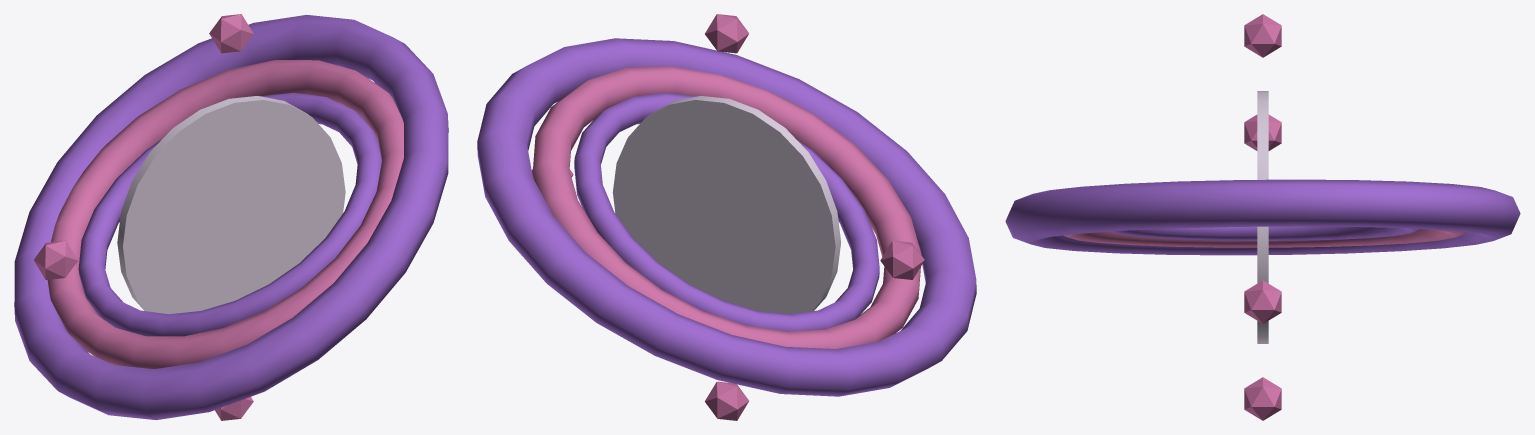
Rendered from region.glb.
3 views of the same model, side by side, from view 1: azimuth 30°, elevation 25°; view 2: azimuth 150°, elevation 25°; view 3: azimuth 270°, elevation 25° (orthographic).
Visible parts, largest first — view 1: portal_ring_2, portal_core, portal_ring_1, portal_ring_0, portal_orbit_1, portal_orbit_2, portal_orbit_3; view 2: portal_ring_2, portal_core, portal_ring_1, portal_ring_0, portal_orbit_1, portal_orbit_2, portal_orbit_3; view 3: portal_ring_2, portal_ring_0, portal_ring_1, portal_core, portal_orbit_1, portal_orbit_3, portal_orbit_0, portal_orbit_2.
Part boxes in pixels (bbox=[...]): portal_ring_2: bbox=[14, 14, 448, 420]; portal_core: bbox=[117, 96, 345, 314]; portal_ring_1: bbox=[47, 60, 403, 368]; portal_ring_0: bbox=[78, 92, 381, 336]; portal_orbit_1: bbox=[209, 14, 253, 53]; portal_orbit_2: bbox=[33, 240, 77, 279]; portal_orbit_3: bbox=[215, 397, 253, 420]; portal_ring_2: bbox=[477, 38, 976, 396]; portal_core: bbox=[612, 96, 841, 314]; portal_ring_1: bbox=[532, 66, 921, 348]; portal_ring_0: bbox=[574, 92, 879, 331]; portal_orbit_1: bbox=[705, 14, 748, 53]; portal_orbit_2: bbox=[880, 240, 924, 279]; portal_orbit_3: bbox=[705, 381, 748, 420]; portal_ring_2: bbox=[1005, 179, 1520, 255]; portal_ring_0: bbox=[1111, 226, 1420, 240]; portal_ring_1: bbox=[1064, 229, 1467, 247]; portal_core: bbox=[1257, 91, 1268, 343]; portal_orbit_1: bbox=[1244, 14, 1281, 57]; portal_orbit_3: bbox=[1244, 377, 1281, 420]; portal_orbit_0: bbox=[1244, 280, 1281, 323]; portal_orbit_2: bbox=[1244, 114, 1281, 150].
Size of what is drawn, in the model's own units: 3.23 by 3.17 by 3.73.
